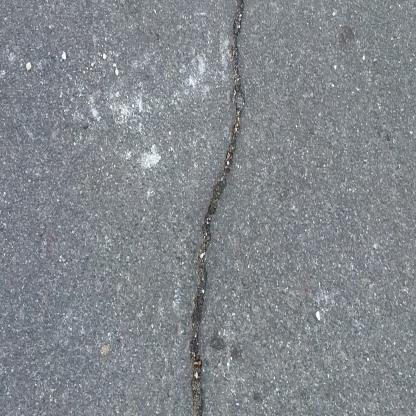Cracks: (187, 0, 252, 416)
